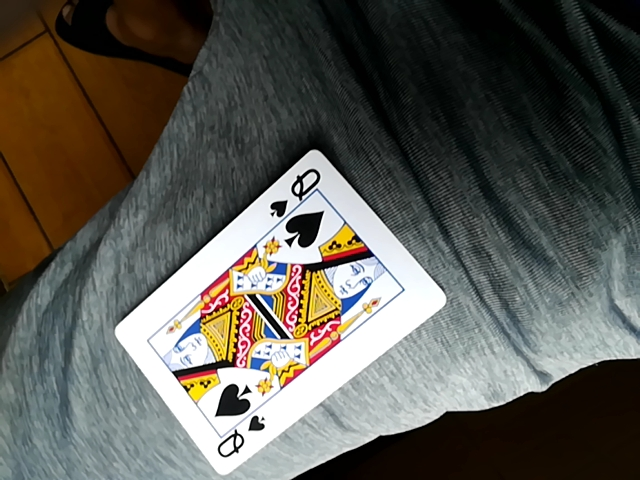ht q: (120, 148, 443, 477)
